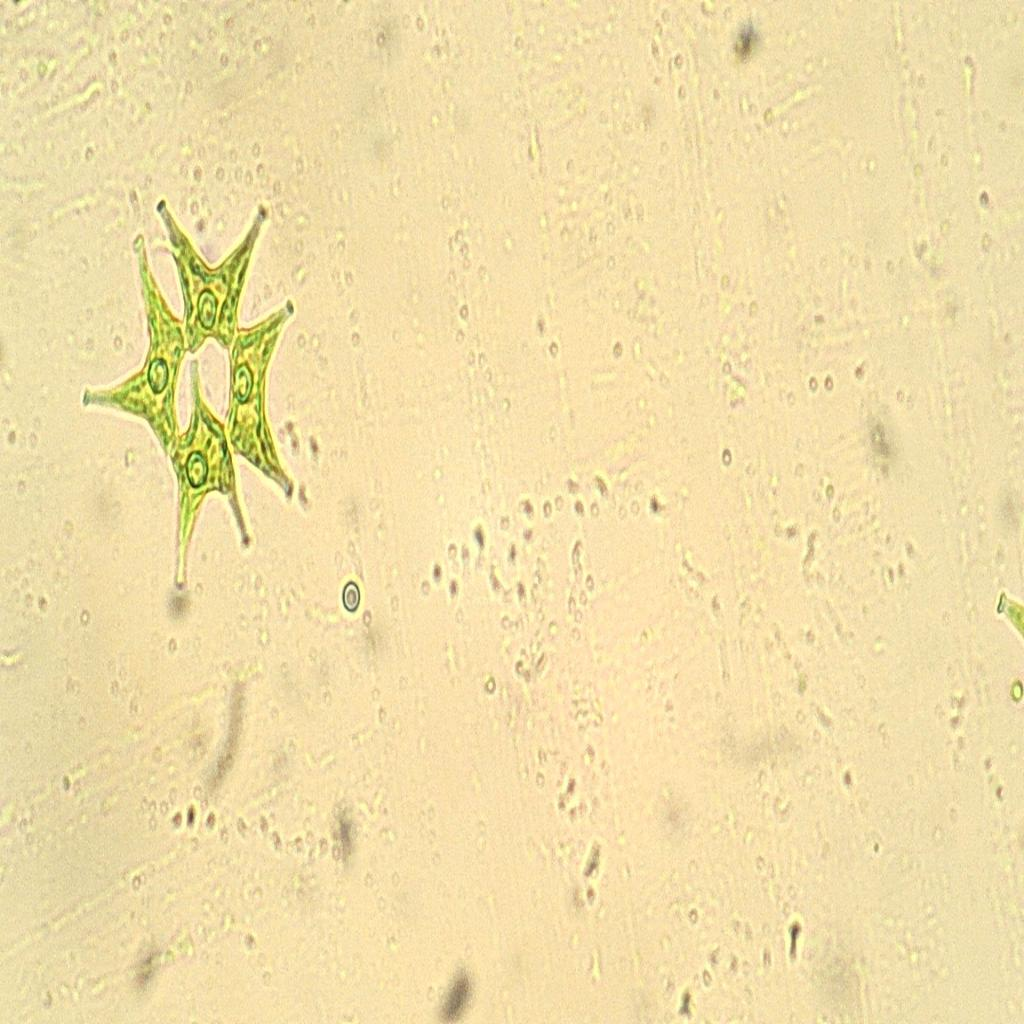Pediastrum_75FO: (80, 187, 316, 602)
